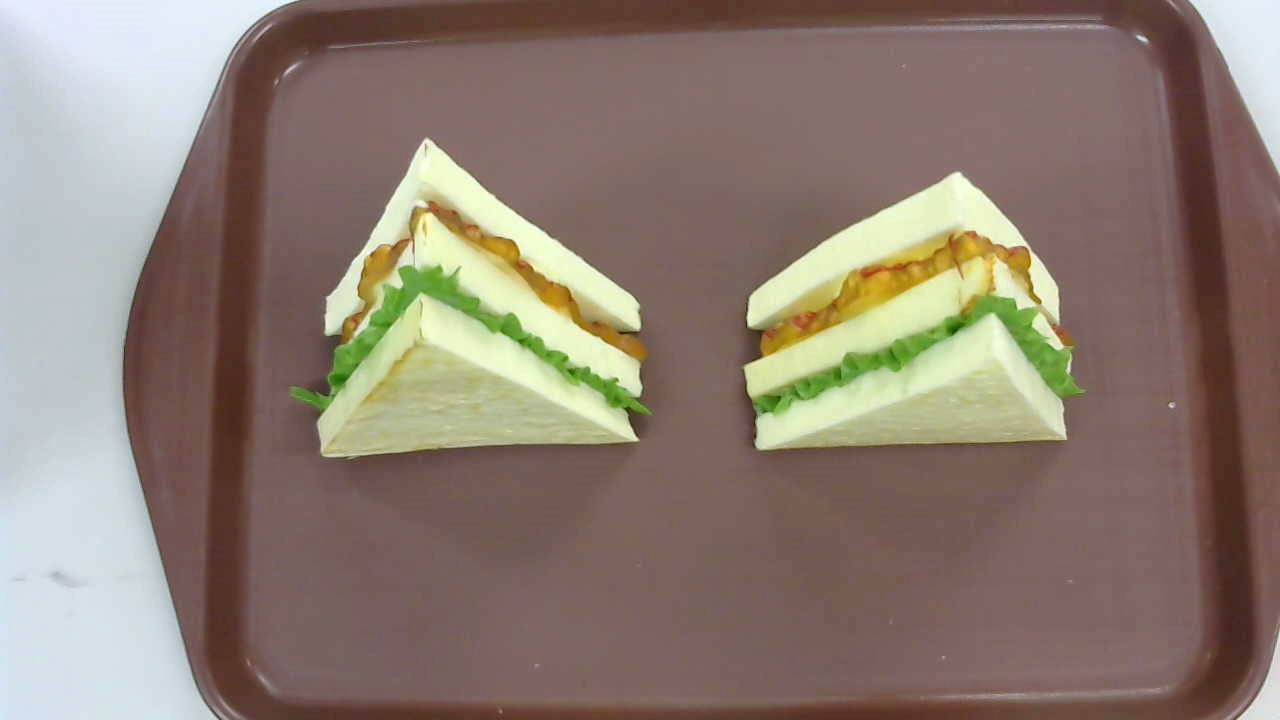sandwich: (289, 136, 655, 462), (742, 171, 1085, 452)
